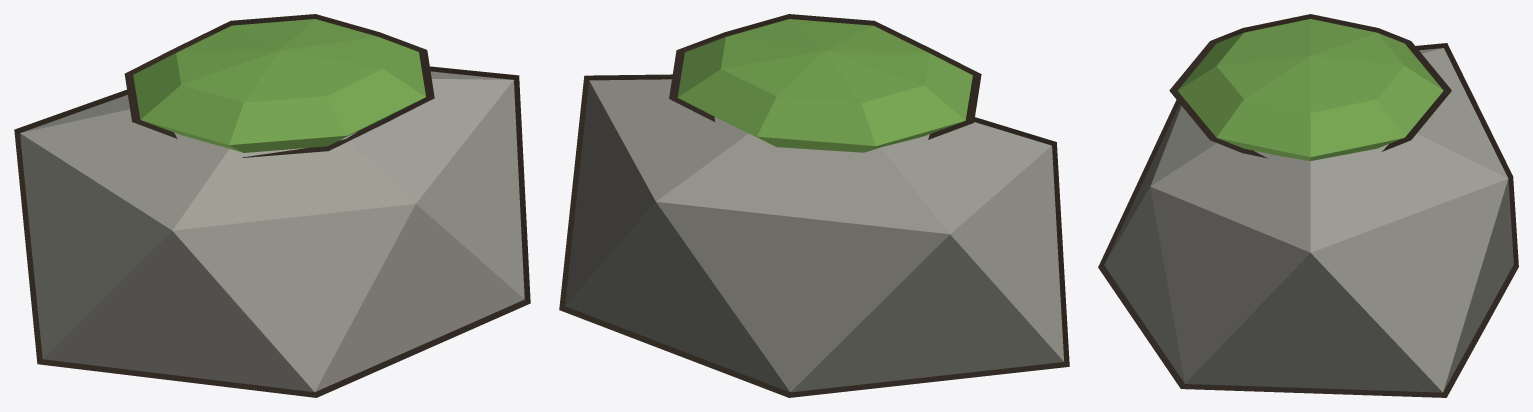
Rendered from rock_02.glb.
The picture shows the model from 3 angles, left to right: view 1: azimuth 30°, elevation 25°; view 2: azimuth 150°, elevation 25°; view 3: azimuth 270°, elevation 25°; orthographic projection. The views are drawn at different scales.
Visible parts, largest first — view 1: OBJ_rock_02; view 2: OBJ_rock_02; view 3: OBJ_rock_02.
Boxes of the visible parts, left/top/right/bottom form: OBJ_rock_02: left=14, top=14, right=530, bottom=397; OBJ_rock_02: left=559, top=14, right=1069, bottom=397; OBJ_rock_02: left=1098, top=14, right=1518, bottom=397.
Bounding box in the file's own units: 0.934 × 0.5277 × 0.7209.
